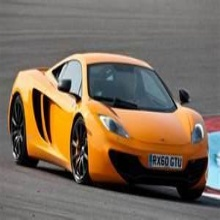no damage: (8, 52, 209, 202)
